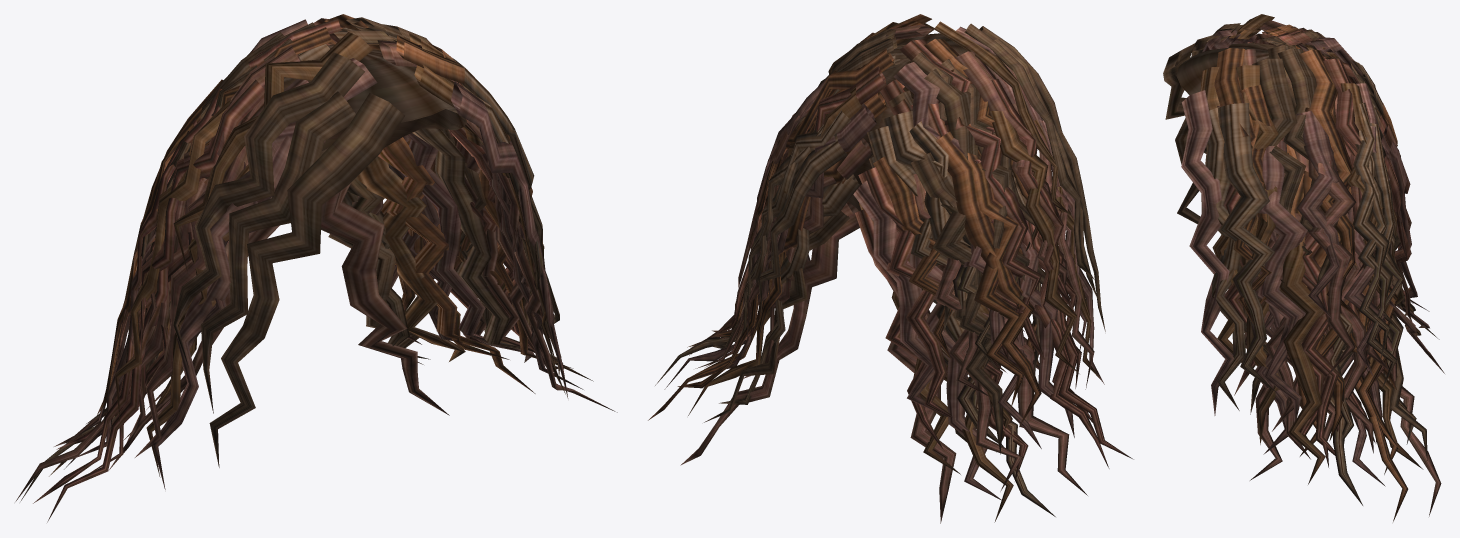
File: ondulado.glb
3 views of the same model, side by side, from view 1: azimuth 30°, elevation 25°; view 2: azimuth 150°, elevation 25°; view 3: azimuth 270°, elevation 25° (orthographic). The views are drawn at different scales.
Visible parts, largest first — view 1: cabelo_ondulado; view 2: cabelo_ondulado; view 3: cabelo_ondulado.
Part boxes in pixels (box(x1,y1,x2,y2)): cabelo_ondulado: box(15, 14, 617, 522); cabelo_ondulado: box(648, 14, 1133, 523); cabelo_ondulado: box(1163, 14, 1444, 521).
Bounding box in the file's own units: 0.4521 × 0.3999 × 0.2509.
Materials: 1 (1 with a texture image).
